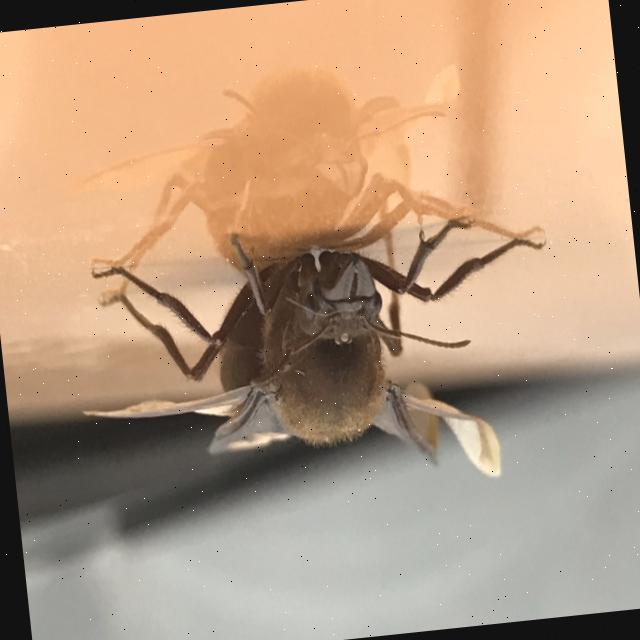Alive-Female-Alate: (65, 202, 569, 518)
